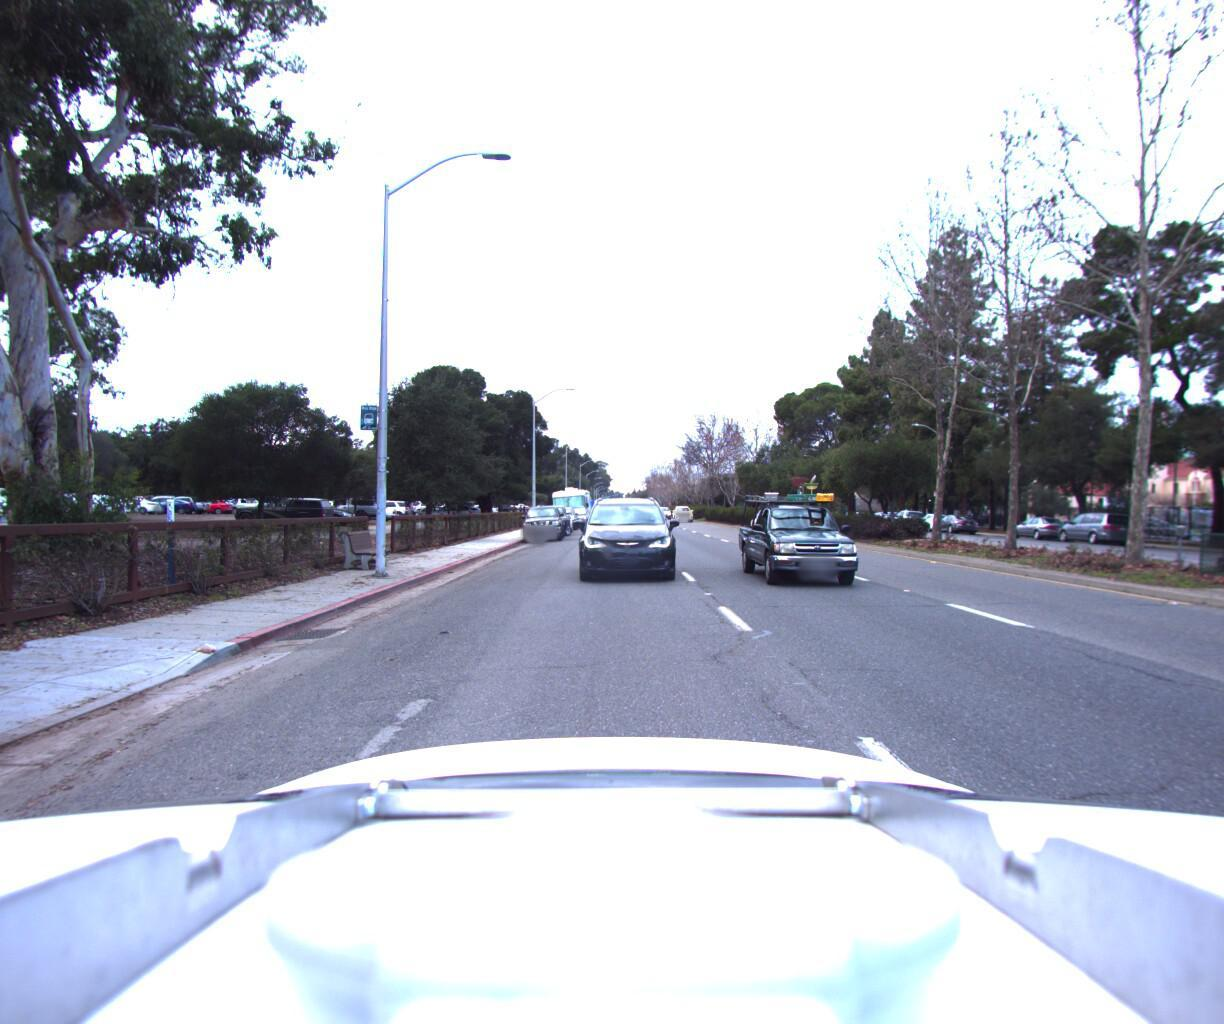car: (740, 460, 889, 600), (578, 487, 671, 581), (1051, 507, 1141, 546), (1004, 510, 1075, 539), (521, 500, 564, 540), (533, 500, 572, 534), (932, 509, 980, 532), (427, 499, 473, 517), (672, 502, 694, 520)
other_vehicle: (549, 482, 591, 526)
